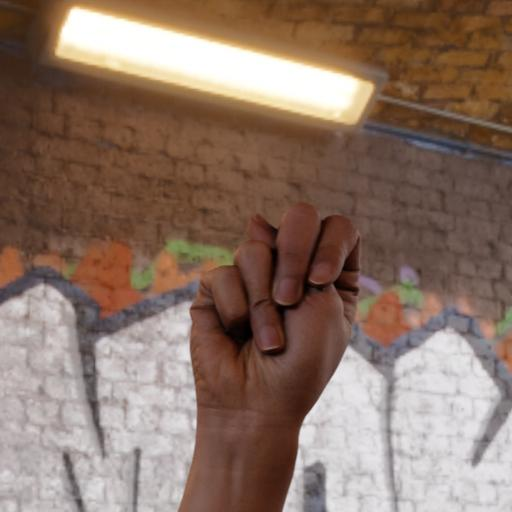N: (180, 201, 378, 424)
